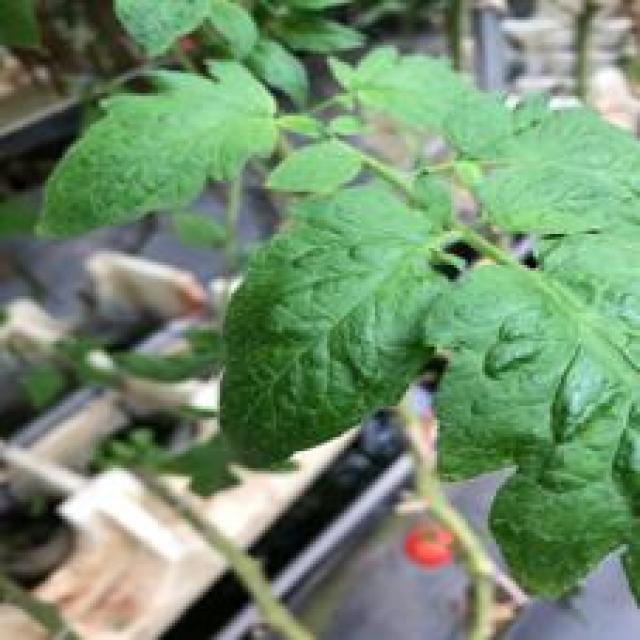Tomato healthy leaf: (217, 93, 640, 615), (39, 62, 276, 240)
